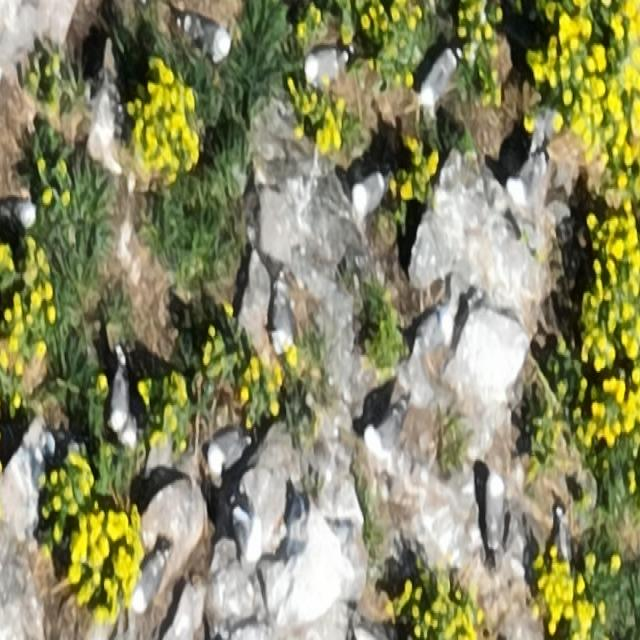umineko: (361, 407, 405, 470), (133, 541, 169, 612), (483, 471, 506, 576), (351, 168, 393, 223), (507, 156, 548, 208), (207, 427, 249, 476), (270, 274, 294, 356), (423, 50, 457, 101), (187, 18, 229, 58), (235, 512, 262, 569), (2, 196, 38, 237), (552, 500, 574, 565), (111, 352, 128, 436), (303, 50, 344, 80), (5, 200, 37, 225), (121, 418, 136, 454)
